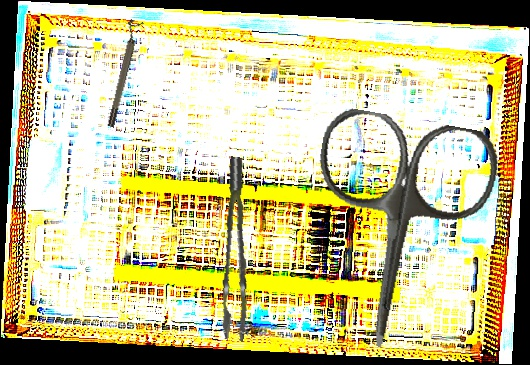Fixation Ring: (101, 18, 144, 129)
Iris Scissors: (289, 104, 504, 362)
Tissue Forceps: (205, 156, 269, 342)
